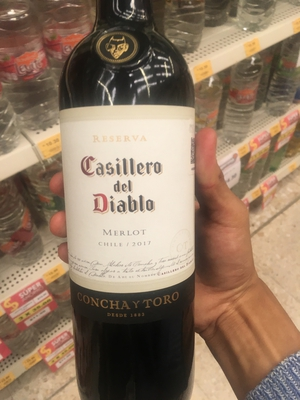casillero del diablo merlot: (55, 2, 207, 400)
